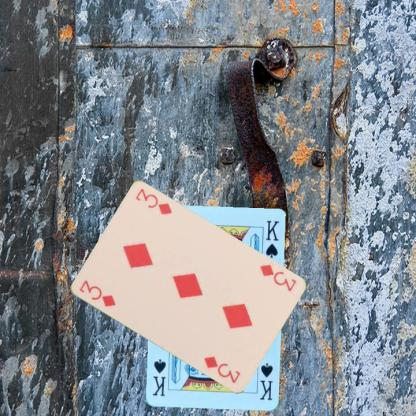3d: (256, 262, 298, 293), (76, 277, 117, 308)
Ks: (258, 361, 274, 402)
